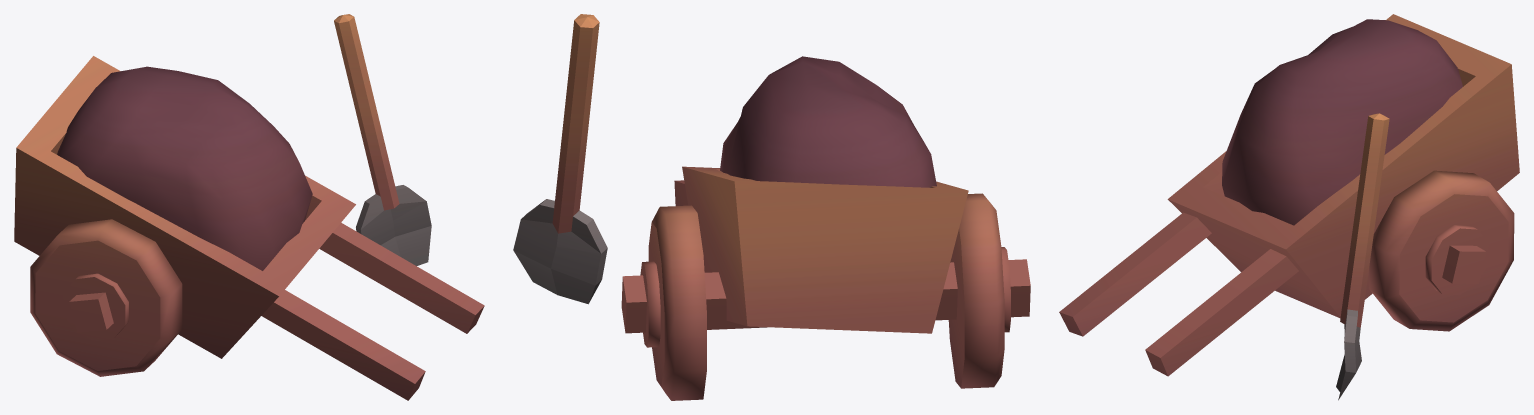
Rendered from Hay_Cart2.obj.
3 views of the same model, side by side, from view 1: azimuth 30°, elevation 25°; view 2: azimuth 150°, elevation 25°; view 3: azimuth 270°, elevation 25° (orthographic). The views are drawn at different scales.
Parts seen in each view (by area): view 1: {mesh}Hay_Cart2_Cylinder.044; view 2: {mesh}Hay_Cart2_Cylinder.044; view 3: {mesh}Hay_Cart2_Cylinder.044.
Boxes of the visible parts, x1,y1,x2,y2 form: {mesh}Hay_Cart2_Cylinder.044: (14, 14, 484, 400); {mesh}Hay_Cart2_Cylinder.044: (513, 14, 1030, 400); {mesh}Hay_Cart2_Cylinder.044: (1059, 14, 1519, 400).
Bounding box in the file's own units: 98.88 × 61.87 × 96.61.
1 material, 1 textured.
